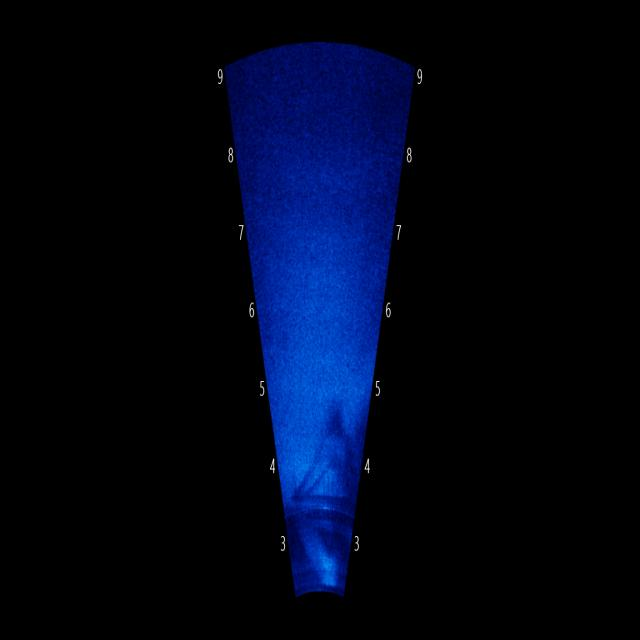triangle: (293, 391, 360, 538)
